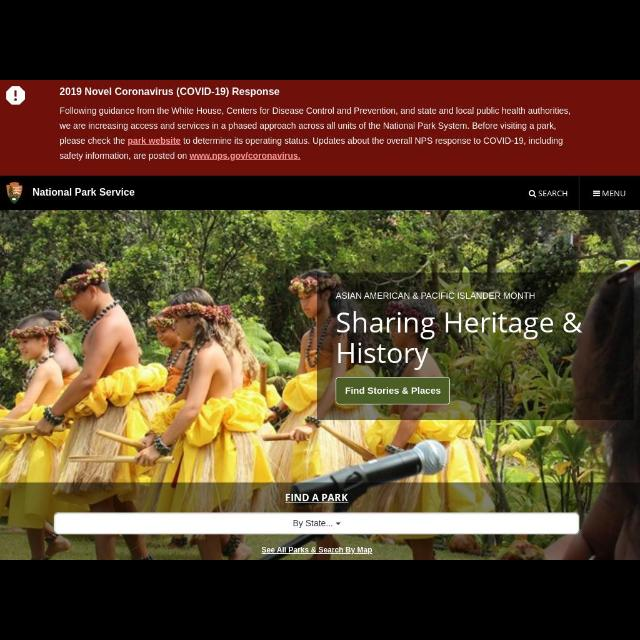backgroundimage: (3, 210, 639, 560)
icon: (589, 186, 603, 200), (528, 188, 536, 198), (336, 520, 342, 528)
iframe: (1, 82, 638, 176)
image: (3, 180, 23, 202)
spinner: (55, 514, 579, 534)
text: (336, 311, 584, 369), (332, 288, 536, 304), (341, 384, 443, 398), (31, 186, 137, 198), (260, 546, 374, 556), (284, 492, 348, 504), (290, 519, 334, 531), (540, 190, 570, 198), (604, 188, 626, 198)
textbutton: (335, 377, 449, 403)
toolbar: (1, 178, 639, 210)
